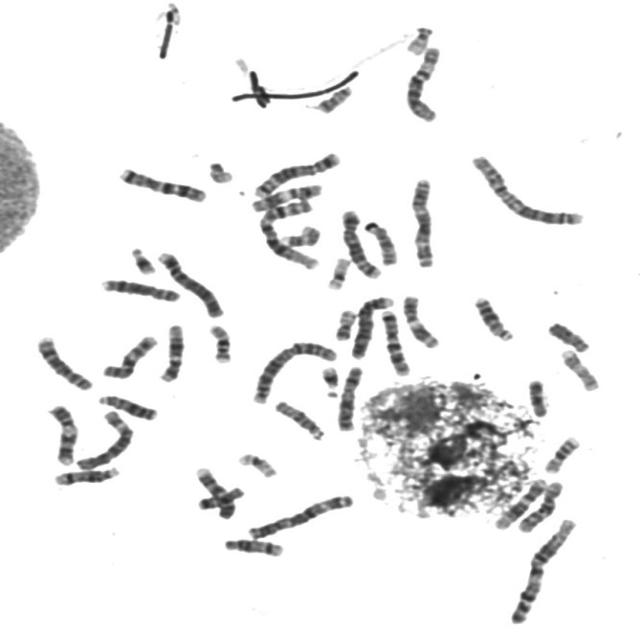A1: (504, 512, 580, 626), (250, 193, 322, 270)
A2: (465, 150, 586, 227), (245, 336, 340, 405)
A3: (240, 488, 357, 541), (405, 172, 438, 269)
B4: (151, 246, 226, 320), (345, 290, 395, 360)
B5: (247, 146, 342, 198), (334, 204, 384, 280)
C10: (96, 330, 160, 380), (512, 476, 566, 534)
C11: (245, 178, 325, 212), (397, 290, 442, 349)
C12: (489, 474, 549, 532), (153, 318, 187, 384)
C6: (70, 405, 136, 471), (398, 41, 445, 124)
C7: (112, 162, 208, 204), (374, 305, 412, 377)
C8: (30, 331, 94, 392), (94, 272, 182, 302)
C9: (188, 461, 238, 521), (42, 399, 79, 466)
D13: (468, 290, 516, 342), (91, 389, 160, 422)
D14: (48, 461, 121, 487), (217, 533, 286, 558)
D15: (269, 394, 327, 442), (359, 216, 399, 266)
E16: (538, 431, 582, 475), (203, 319, 234, 364)
E17: (555, 343, 602, 392), (276, 220, 322, 248)
E18: (190, 481, 246, 511), (522, 374, 551, 418)
F19: (232, 448, 280, 478), (320, 252, 353, 291)
F20: (311, 81, 354, 114), (329, 304, 360, 342)
G21: (123, 242, 158, 276), (316, 362, 340, 392)
G22: (400, 20, 435, 56), (202, 156, 235, 184)
X: (332, 361, 365, 432)
Y: (543, 317, 592, 353)
